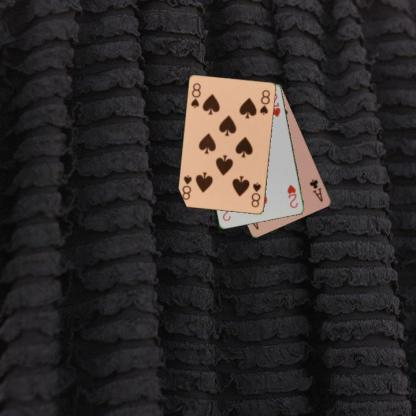2h: (285, 182, 299, 209)
8s: (188, 80, 202, 110), (248, 180, 262, 209)
Ac: (308, 177, 324, 203)
